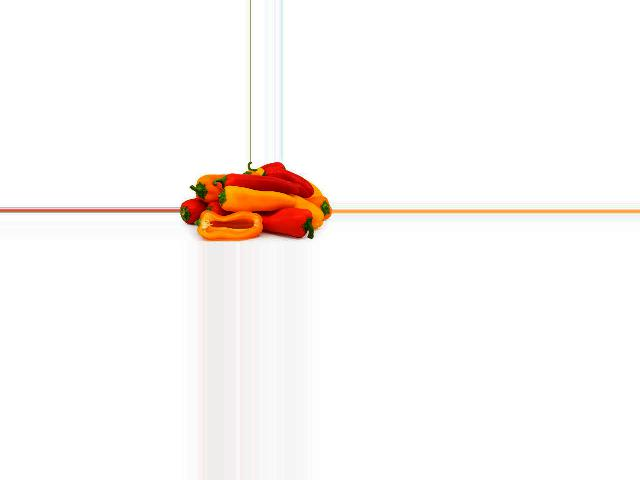bell_pepper: (179, 193, 222, 223)
